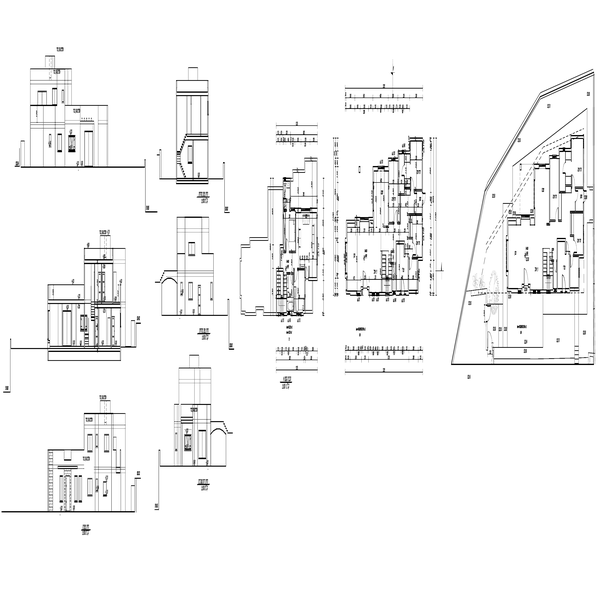room: (504, 214, 546, 297), (547, 213, 590, 294)
